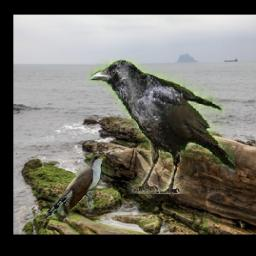Crow: (89, 60, 236, 195)
Cuckoo: (43, 155, 106, 219)
